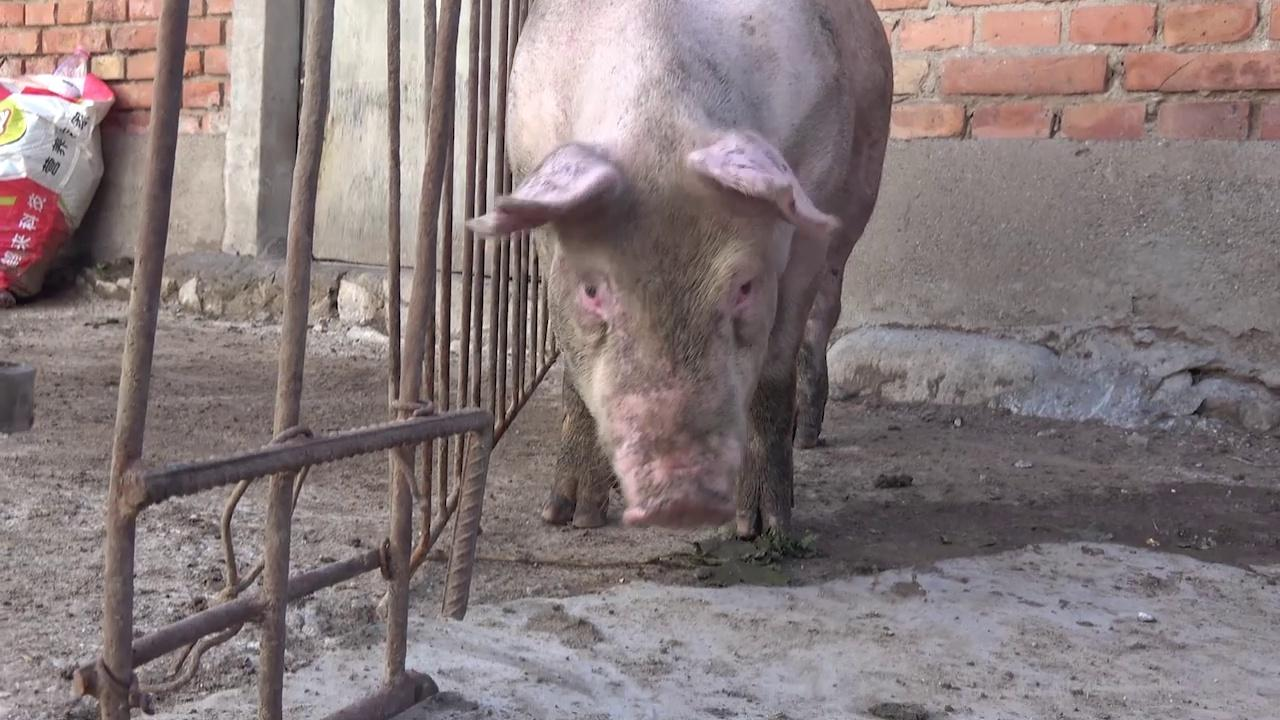Face: (463, 129, 854, 545)
